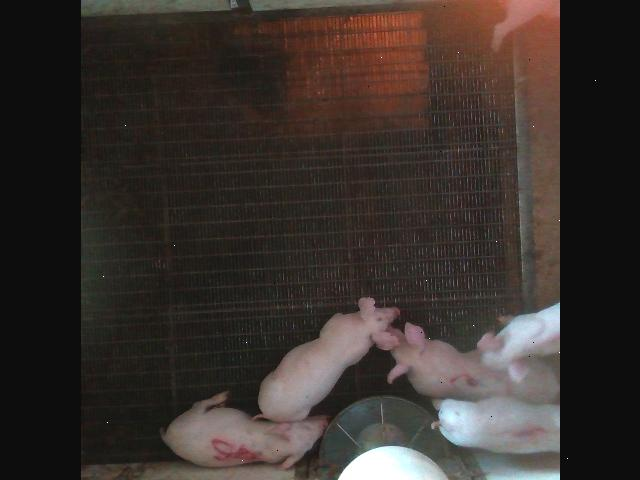pig-1: (431, 396, 558, 454)
pig-3: (386, 324, 558, 404)
pig-5: (160, 391, 327, 469)
